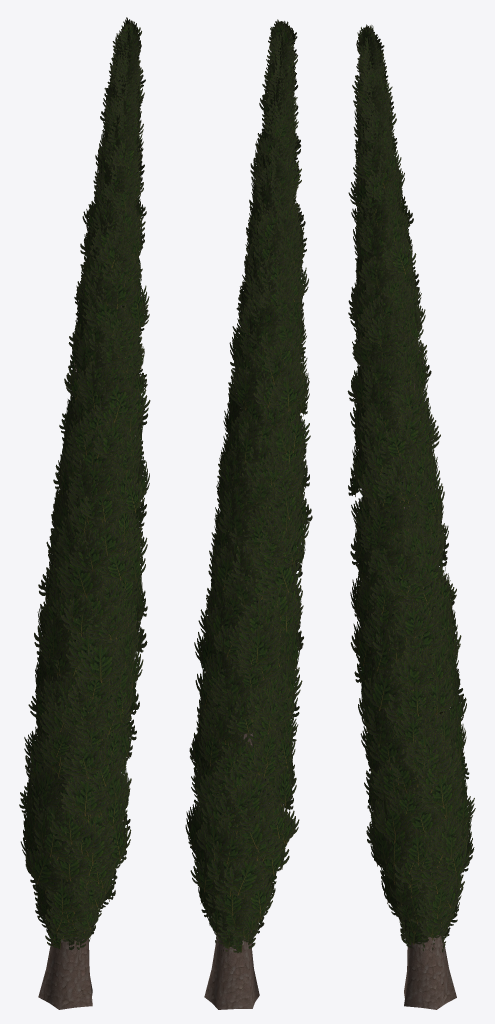
The model's file is tree-cypress.glb.
The picture shows the model from 3 angles, left to right: view 1: azimuth 90°, elevation 25°; view 2: azimuth 150°, elevation 25°; view 3: azimuth 270°, elevation 25°; orthographic projection. The views are drawn at different scales.
Parts seen in each view (by area): view 1: leaves, bark; view 2: leaves, bark; view 3: leaves, bark.
Part boxes in pixels (x1=…): leaves: x1=19, y1=17, x2=150, y2=950; bark: x1=38, y1=305, x2=125, y2=1009; leaves: x1=185, y1=19, x2=312, y2=955; bark: x1=204, y1=372, x2=259, y2=1009; leaves: x1=347, y1=24, x2=475, y2=952; bark: x1=404, y1=361, x2=456, y2=1009.
Size of the model in its own units: 2.06 by 17.26 by 2.19.
2 materials, 2 textured.
